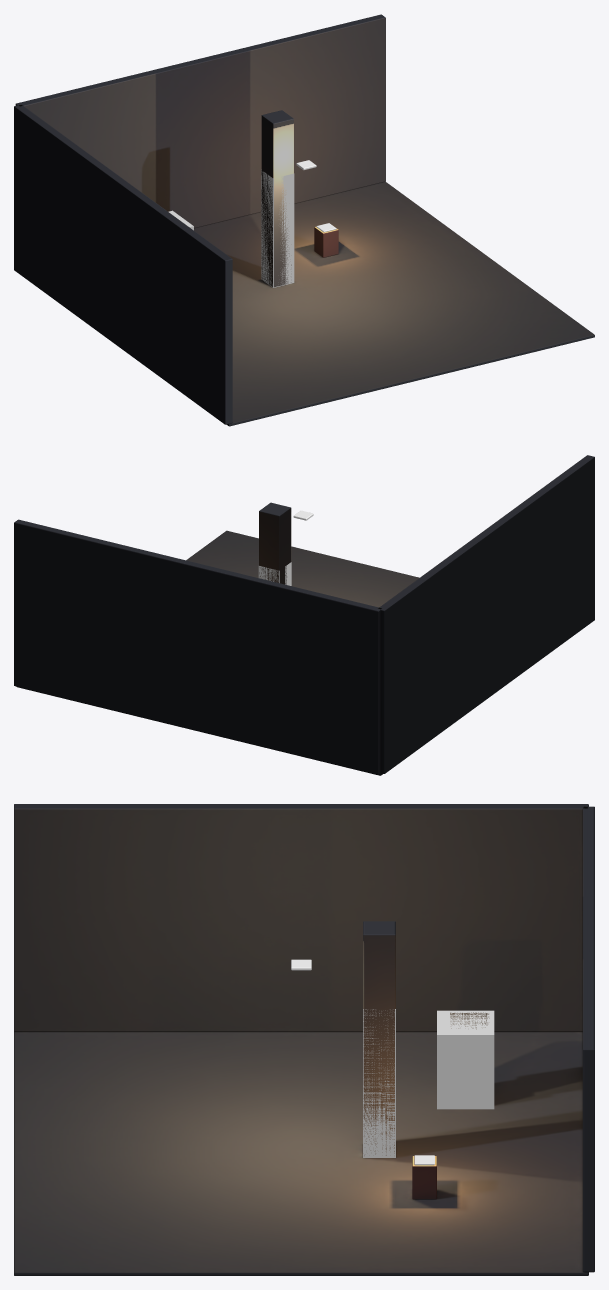
The model's file is warehouse.glb.
3 renders of one model, top to bottom at view 1: azimuth 30°, elevation 25°; view 2: azimuth 150°, elevation 25°; view 3: azimuth 270°, elevation 25°, orthographic. The views are drawn at different scales.
Visible parts, largest first — view 1: floor, wall_back, wall_left, pillar, col_pillar, drum; view 2: wall_back, wall_left, floor, pillar, col_pillar; view 3: floor, wall_left, pillar, wall_back, col_crates, col_pillar, drum.
Part boxes in pixels (x1=…): floor: x1=194, y1=181, x2=594, y2=426; wall_back: x1=15, y1=14, x2=385, y2=228; wall_left: x1=14, y1=105, x2=232, y2=424; pillar: x1=261, y1=110, x2=293, y2=287; col_pillar: x1=261, y1=170, x2=294, y2=287; drum: x1=314, y1=227, x2=338, y2=257; wall_back: x1=14, y1=519, x2=381, y2=774; wall_left: x1=378, y1=455, x2=594, y2=773; floor: x1=16, y1=530, x2=419, y2=775; pillar: x1=259, y1=502, x2=291, y2=584; col_pillar: x1=258, y1=562, x2=291, y2=585; floor: x1=14, y1=1031, x2=588, y2=1275; wall_left: x1=14, y1=804, x2=588, y2=1031; pillar: x1=363, y1=921, x2=395, y2=1155; wall_back: x1=582, y1=806, x2=594, y2=1272; col_crates: x1=437, y1=1010, x2=494, y2=1109; col_pillar: x1=363, y1=1009, x2=395, y2=1157; drum: x1=412, y1=1156, x2=436, y2=1199.
Bounding box in the file's own units: 14.15 × 6.1 × 14.15.
Materials: 9 (9 with a texture image).
